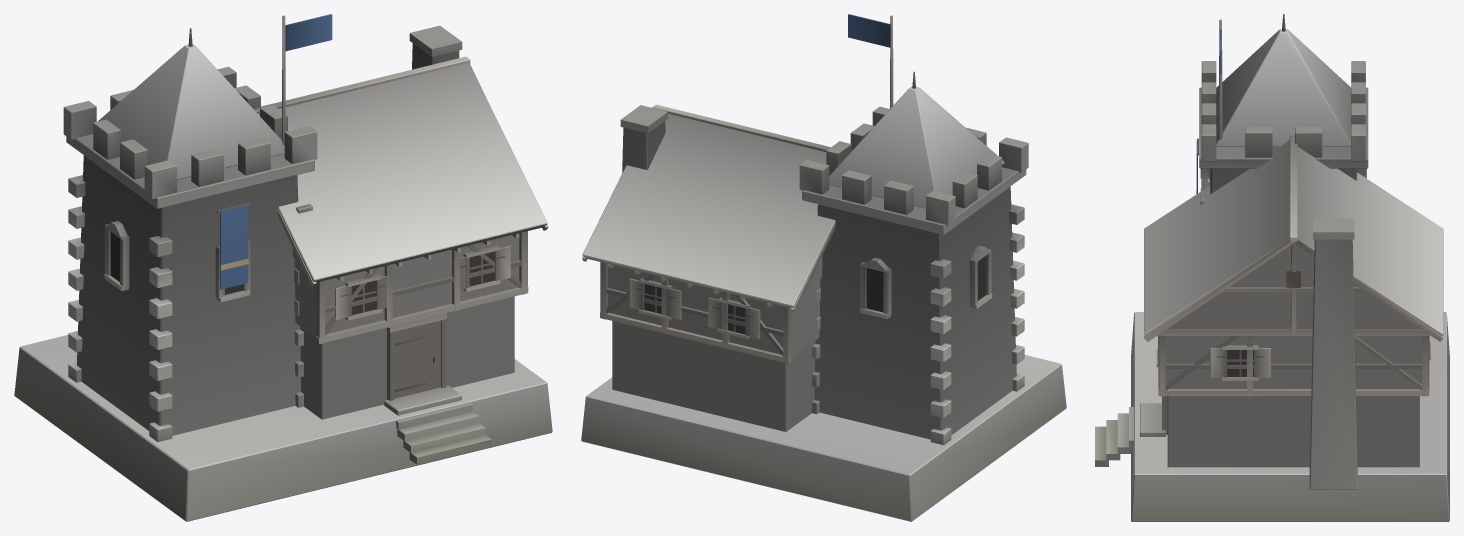
The model's file is keep_l1_lod0.glb.
The picture shows the model from 3 angles, left to right: view 1: azimuth 30°, elevation 25°; view 2: azimuth 150°, elevation 25°; view 3: azimuth 270°, elevation 25°; orthographic projection. The views are drawn at different scales.
Visible parts, largest first — view 1: keep_l1_lod0; view 2: keep_l1_lod0; view 3: keep_l1_lod0.
Boxes of the visible parts, left/top/right/bottom form: keep_l1_lod0: left=14, top=14, right=552, bottom=521; keep_l1_lod0: left=581, top=14, right=1066, bottom=521; keep_l1_lod0: left=1095, top=14, right=1449, bottom=521.
Size of the model in its own units: 12.12 by 13.38 by 10.68.
